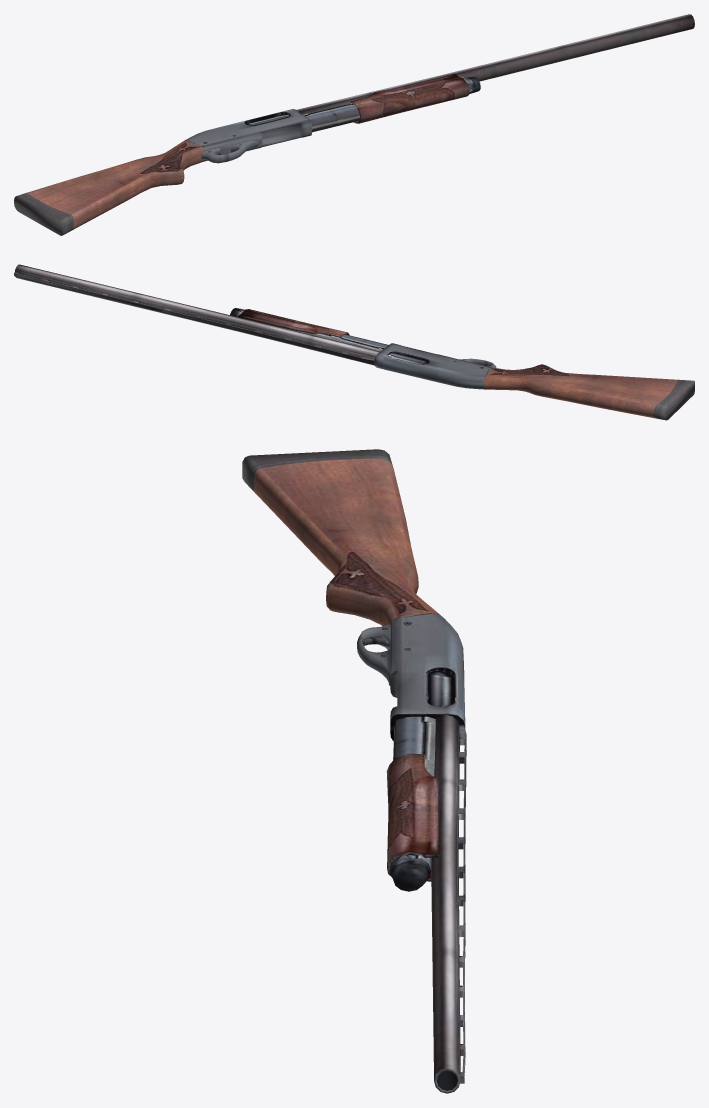
File: Shotgun.fbx
3 renders of one model, top to bottom at view 1: azimuth 30°, elevation 25°; view 2: azimuth 150°, elevation 25°; view 3: azimuth 270°, elevation 25°, orthographic. The views are drawn at different scales.
Visible parts, largest first — view 1: Shotgun, Action; view 2: Shotgun, Action; view 3: Shotgun, Action.
Boxes of the visible parts, box(x1,y1,x2,y2) form: Shotgun: box(14, 14, 694, 235); Action: box(350, 74, 469, 123); Shotgun: box(14, 264, 694, 420); Action: box(238, 309, 349, 337); Shotgun: box(242, 449, 466, 1093); Action: box(386, 753, 438, 881).
Bounding box in the file's own units: 492 × 13.32 × 75.48.
1 material, 1 textured.
